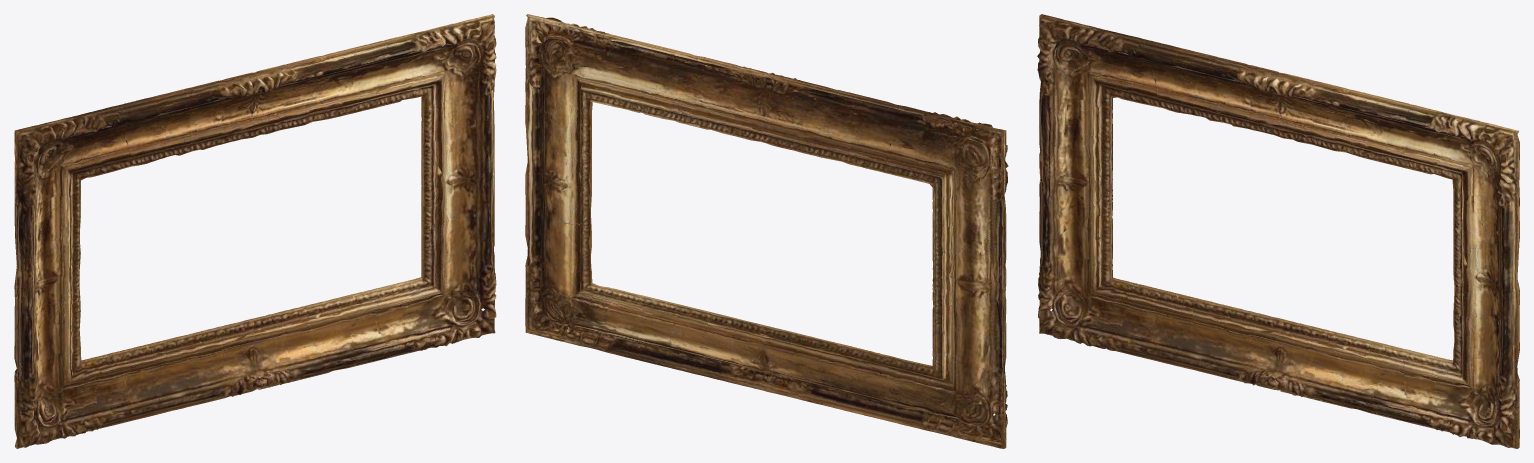
Rendered from frame_gold.glb.
3 renders of one model, left to right at view 1: azimuth 30°, elevation 25°; view 2: azimuth 150°, elevation 25°; view 3: azimuth 330°, elevation 25°, orthographic.
Visible parts, largest first — view 1: Object_4; view 2: Object_4; view 3: Object_4.
Boxes of the visible parts, x1,y1,x2,y2 form: Object_4: (14,14,496,448); Object_4: (525,14,1008,448); Object_4: (1037,14,1519,448).
Bounding box in the file's own units: 1.9 × 1.2 × 0.0885.
Materials: 1 (1 with a texture image).
